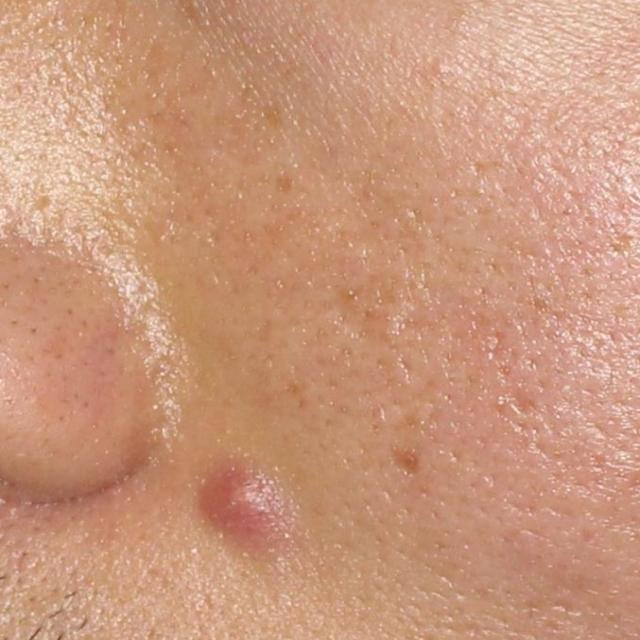nodule: (201, 471, 275, 530)
